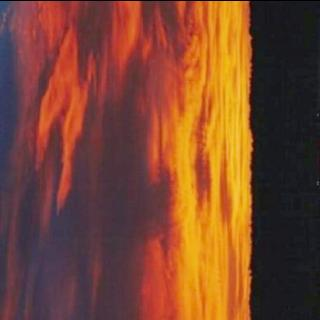Altostratus: (0, 0, 256, 320)
